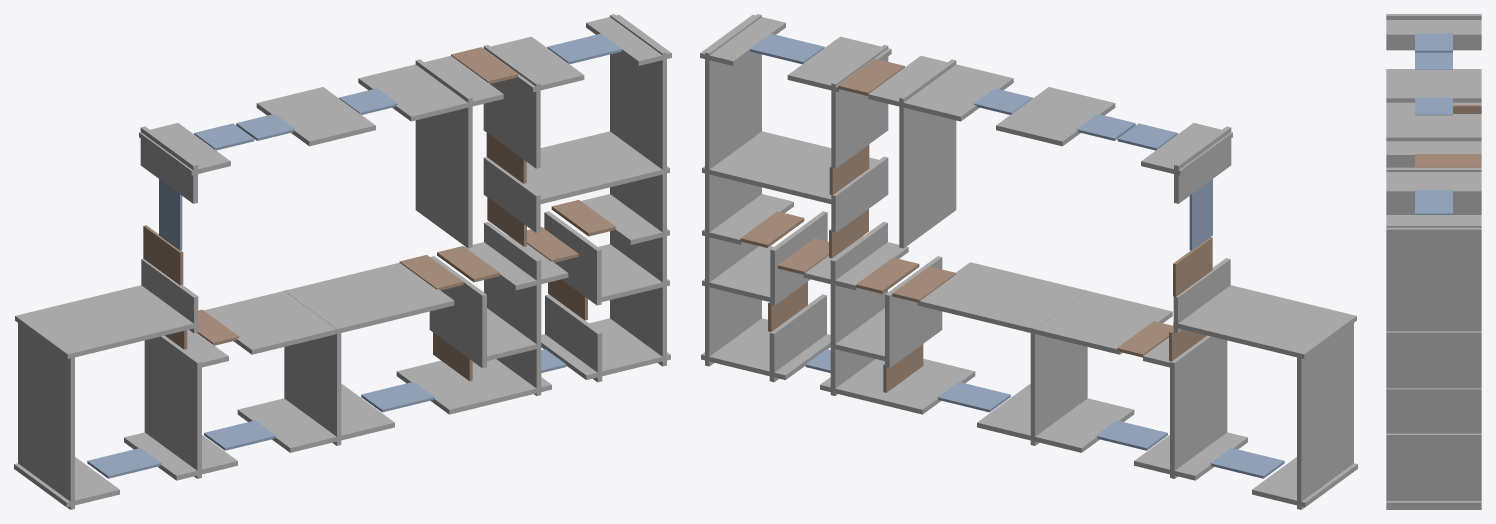
Rendered from job_7_d67CJuA.glb.
3 renders of one model, left to right at view 1: azimuth 30°, elevation 25°; view 2: azimuth 150°, elevation 25°; view 3: azimuth 270°, elevation 25°, orthographic. The views are drawn at different scales.
Visible parts, largest first — view 1: part_12, part_5, part_19, part_2, part_29, part_20, part_14, part_16, part_28, part_3, part_1, part_0 (+39 smaller); view 2: part_12, part_5, part_19, part_2, part_29, part_20, part_14, part_16, part_3, part_28, part_0, part_1 (+38 smaller); view 3: part_5, part_30, part_3, part_6, part_11, part_18, part_10, part_4, part_15, part_49, part_32, part_29 (+9 smaller).
Part boxes in pixels (left/top/right/bottom): part_12: left=204, top=262, right=454, bottom=354; part_5: left=610, top=14, right=666, bottom=332; part_19: left=18, top=323, right=74, bottom=509; part_2: left=15, top=285, right=198, bottom=358; part_29: left=415, top=59, right=472, bottom=248; part_20: left=144, top=335, right=201, bottom=478; part_14: left=525, top=131, right=669, bottom=204; part_16: left=284, top=289, right=341, bottom=445; part_28: left=484, top=222, right=541, bottom=395; part_3: left=358, top=56, right=503, bottom=121; part_1: left=396, top=359, right=551, bottom=414; part_0: left=237, top=384, right=394, bottom=452; part_12: left=917, top=262, right=1172, bottom=354; part_5: left=705, top=14, right=761, bottom=332; part_19: left=1297, top=323, right=1353, bottom=509; part_2: left=1173, top=285, right=1356, bottom=358; part_29: left=899, top=59, right=956, bottom=248; part_20: left=1170, top=335, right=1227, bottom=478; part_14: left=702, top=131, right=878, bottom=204; part_16: left=1030, top=289, right=1087, bottom=445; part_3: left=868, top=56, right=1013, bottom=121; part_28: left=830, top=222, right=887, bottom=395; part_0: left=977, top=384, right=1134, bottom=452; part_1: left=820, top=358, right=975, bottom=414; part_5: left=1386, top=223, right=1481, bottom=479; part_30: left=1386, top=439, right=1481, bottom=509; part_3: left=1386, top=114, right=1481, bottom=159; part_6: left=1386, top=69, right=1481, bottom=102; part_11: left=1386, top=172, right=1481, bottom=195; part_18: left=1386, top=167, right=1481, bottom=214; part_10: left=1386, top=20, right=1481, bottom=38; part_4: left=1386, top=215, right=1481, bottom=233; part_15: left=1386, top=14, right=1481, bottom=50; part_49: left=1415, top=190, right=1452, bottom=214; part_32: left=1415, top=154, right=1481, bottom=167; part_29: left=1386, top=135, right=1481, bottom=167.
Size of the model in its own units: 19.91 by 9.91 by 3.
